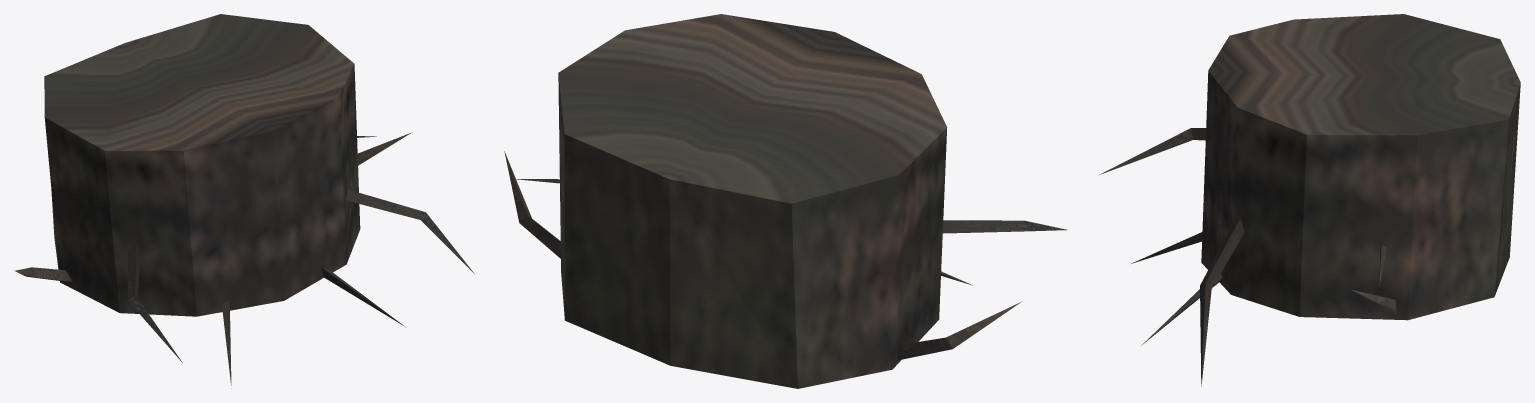
The model's file is trompa11.obj.
3 views of the same model, side by side, from view 1: azimuth 30°, elevation 25°; view 2: azimuth 150°, elevation 25°; view 3: azimuth 270°, elevation 25° (orthographic). The views are drawn at different scales.
Parts seen in each view (by area): view 1: pasted__polySurface89 group; view 2: pasted__polySurface89 group; view 3: pasted__polySurface89 group.
Boxes of the visible parts, left/top/right/bottom form: pasted__polySurface89 group: left=14, top=14, right=474, bottom=388; pasted__polySurface89 group: left=504, top=14, right=1067, bottom=388; pasted__polySurface89 group: left=1098, top=14, right=1520, bottom=386.
Size of the model in its own units: 1.18 by 0.6023 by 0.9572.
1 material, 1 textured.
